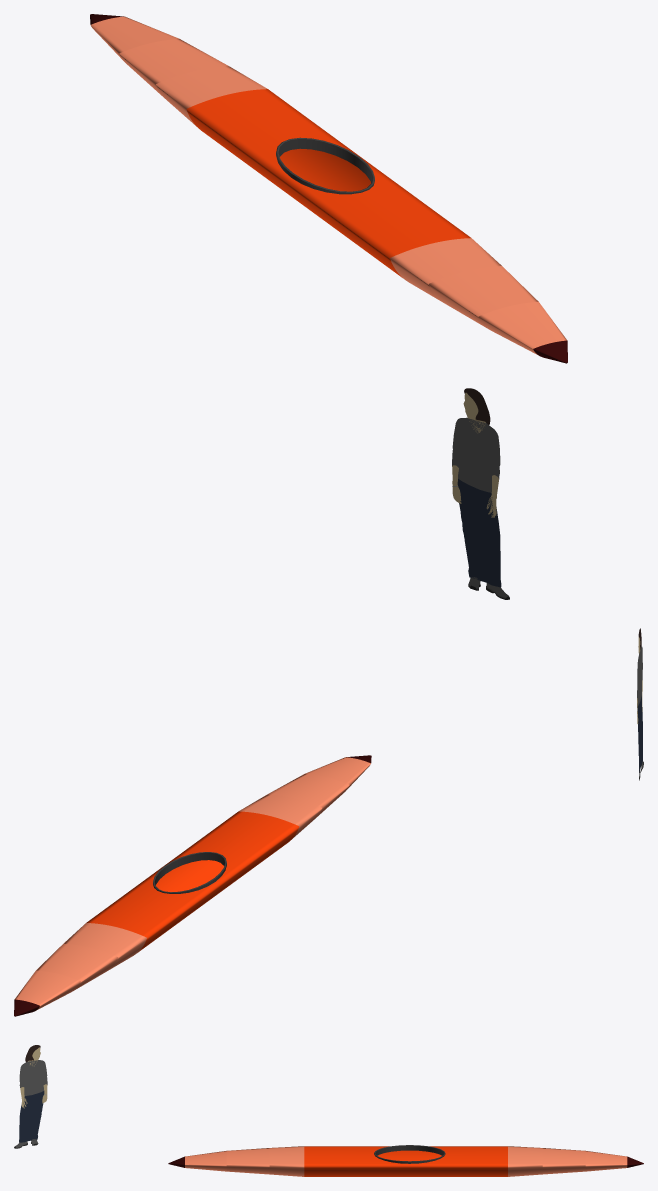
The model's file is kayak.fbx.
3 views of the same model, one above another, from view 1: azimuth 30°, elevation 25°; view 2: azimuth 150°, elevation 25°; view 3: azimuth 270°, elevation 25° (orthographic). The views are drawn at different scales.
Visible parts, largest first — view 1: Group3, Susan1, Group4; view 2: Group3, Group4, Susan1; view 3: Group3, Susan1, Group4.
Boxes of the visible parts, x1,y1,x2,y2 form: Group3: [90, 14, 567, 363]; Susan1: [452, 388, 509, 599]; Group4: [276, 137, 374, 194]; Group3: [14, 755, 371, 1016]; Group4: [153, 852, 226, 893]; Susan1: [637, 628, 643, 780]; Group3: [168, 1146, 643, 1176]; Susan1: [14, 1045, 47, 1148]; Group4: [374, 1145, 445, 1163].
Bounding box in the file's own units: 2437 × 1692 × 9617.
